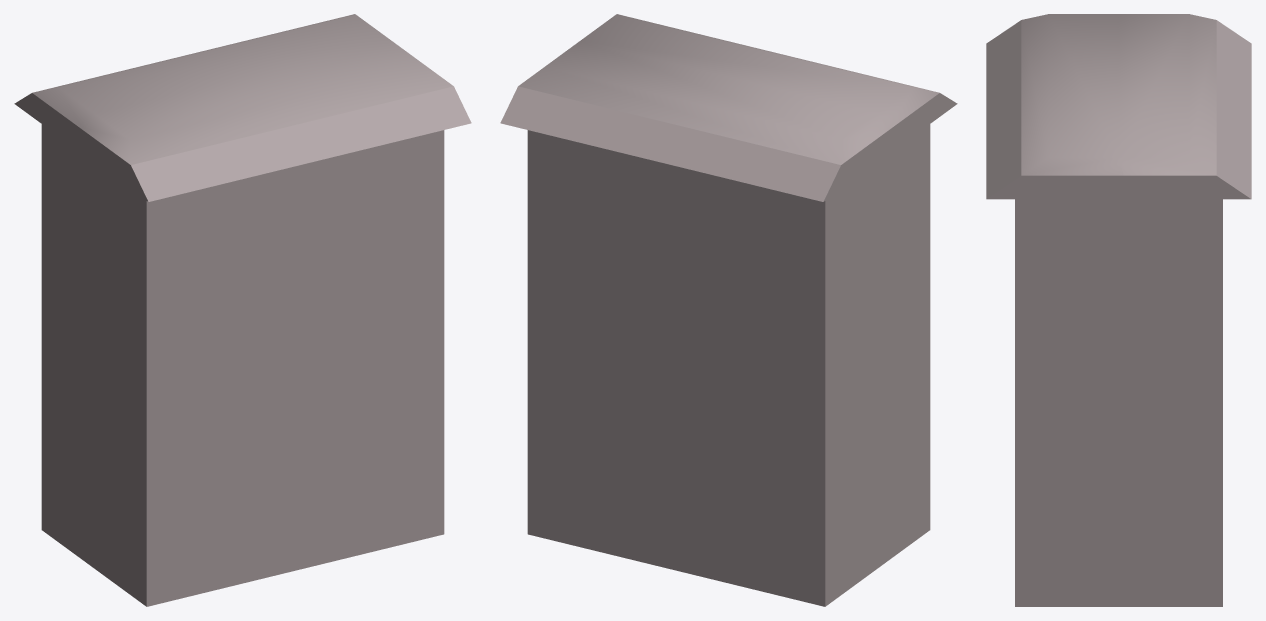
Rendered from DropDoor.fbx.
3 views of the same model, side by side, from view 1: azimuth 30°, elevation 25°; view 2: azimuth 150°, elevation 25°; view 3: azimuth 270°, elevation 25° (orthographic).
Visible parts, largest first — view 1: DropDoor; view 2: DropDoor; view 3: DropDoor.
Boxes of the visible parts, <box> form: DropDoor: <box>14,14,471,606</box>; DropDoor: <box>500,14,957,606</box>; DropDoor: <box>986,14,1251,606</box>.
Size of the model in its own units: 766 by 1030 by 551.
